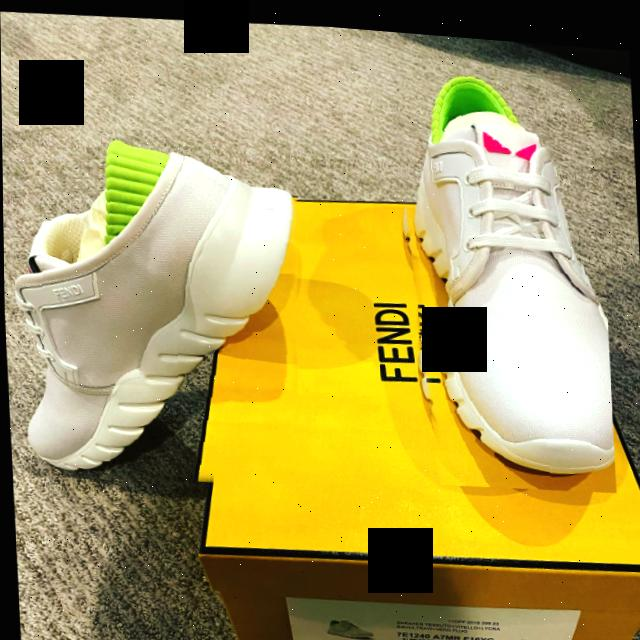shoe: (6, 121, 313, 494), (388, 51, 615, 489)
